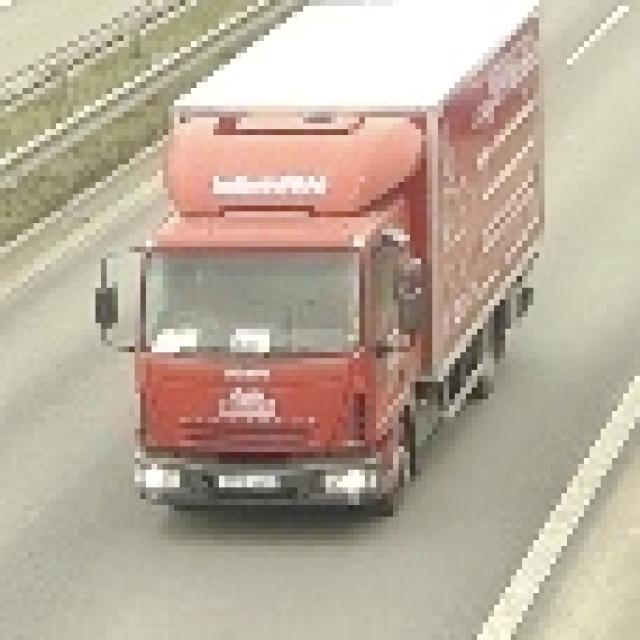truck: (91, 1, 534, 512)
